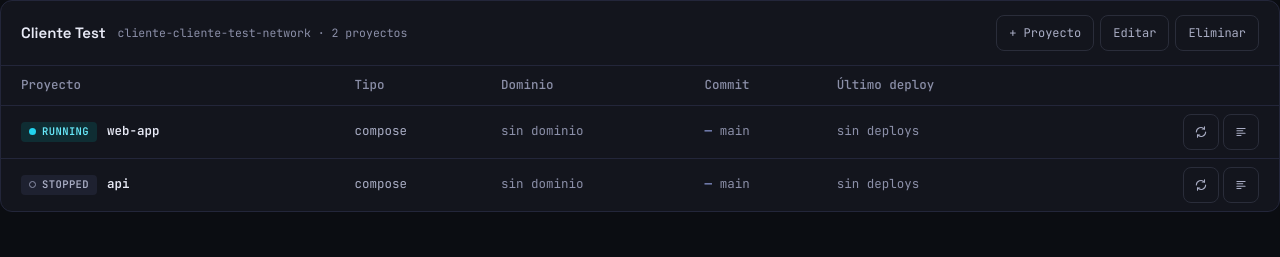
Test case: ClientSection › muestra error cuando eliminarClienteAction falla
This screenshot has width=1280, height=257.
Click the button "Eliminar" at [1217, 33], box [1175,15,1259,51]
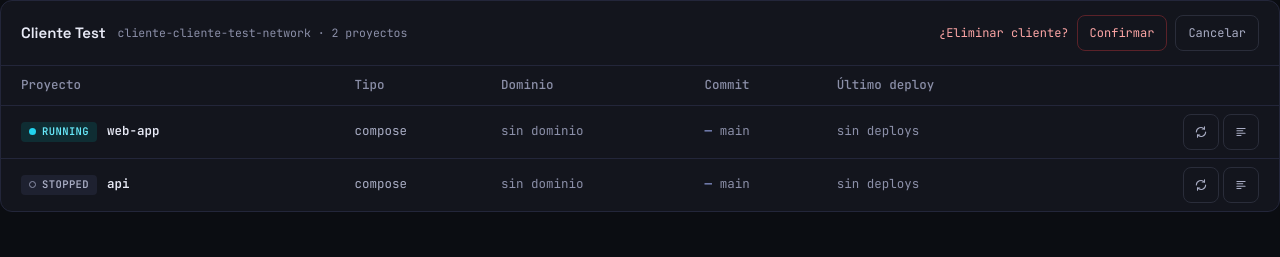
Click the button "Confirmar" at [1122, 33], box [1077,15,1167,51]
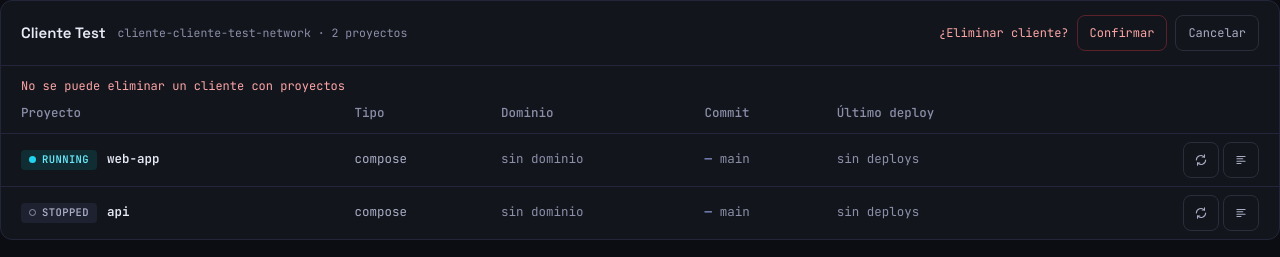
Now the message reads "No se puede eliminar un cliente con proyectos", box [21,78,345,94]
